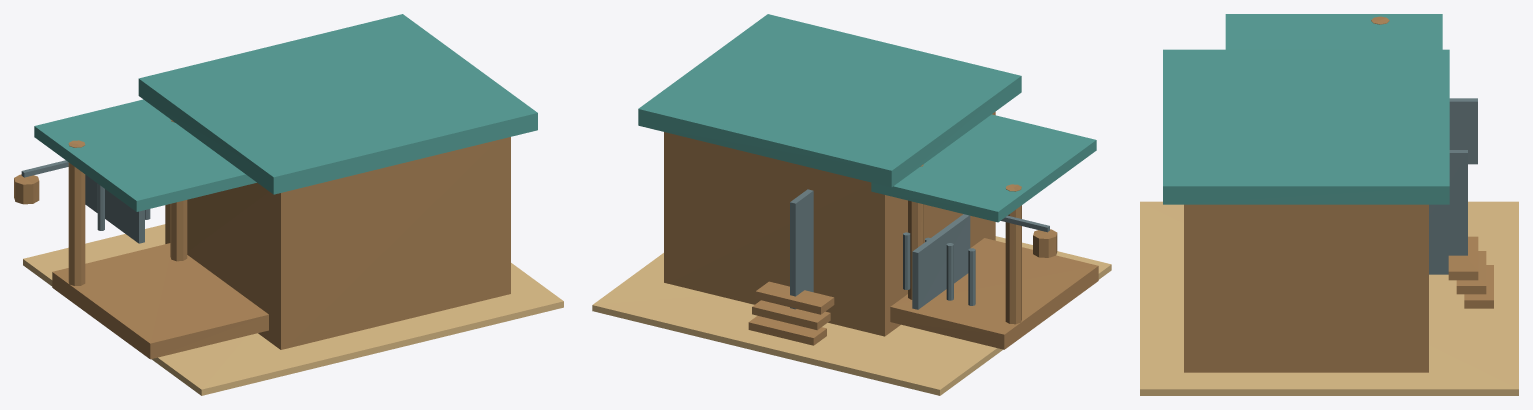
Rendered from Forester-Hut.glb.
3 views of the same model, side by side, from view 1: azimuth 30°, elevation 25°; view 2: azimuth 150°, elevation 25°; view 3: azimuth 270°, elevation 25° (orthographic). The views are drawn at different scales.
Parts seen in each view (by area): view 1: forester-hut-static-hut-timber, forester-hut-static-hut-teal-roof, forester-hut-static-hut-earth, forester-hut-static-hut-metal, forester-hut-static-hut-lantern; view 2: forester-hut-static-hut-teal-roof, forester-hut-static-hut-timber, forester-hut-static-hut-earth, forester-hut-static-hut-metal, forester-hut-static-hut-lantern; view 3: forester-hut-static-hut-teal-roof, forester-hut-static-hut-timber, forester-hut-static-hut-earth, forester-hut-static-hut-metal.
Boxes of the visible parts, bbox=[...] form: forester-hut-static-hut-timber: bbox=[52, 119, 510, 359]; forester-hut-static-hut-teal-roof: bbox=[34, 14, 537, 211]; forester-hut-static-hut-earth: bbox=[23, 224, 563, 395]; forester-hut-static-hut-metal: bbox=[21, 160, 150, 243]; forester-hut-static-hut-lantern: bbox=[14, 174, 39, 204]; forester-hut-static-hut-teal-roof: bbox=[638, 14, 1096, 222]; forester-hut-static-hut-timber: bbox=[664, 112, 1098, 349]; forester-hut-static-hut-earth: bbox=[592, 236, 1111, 395]; forester-hut-static-hut-metal: bbox=[790, 189, 1049, 309]; forester-hut-static-hut-lantern: bbox=[1033, 229, 1057, 257]; forester-hut-static-hut-teal-roof: bbox=[1163, 14, 1449, 204]; forester-hut-static-hut-timber: bbox=[1184, 16, 1493, 372]; forester-hut-static-hut-earth: bbox=[1140, 201, 1518, 395]; forester-hut-static-hut-metal: bbox=[1429, 98, 1477, 274].
Bounding box in the file's own units: 5.65 × 2.41 × 4.1.
